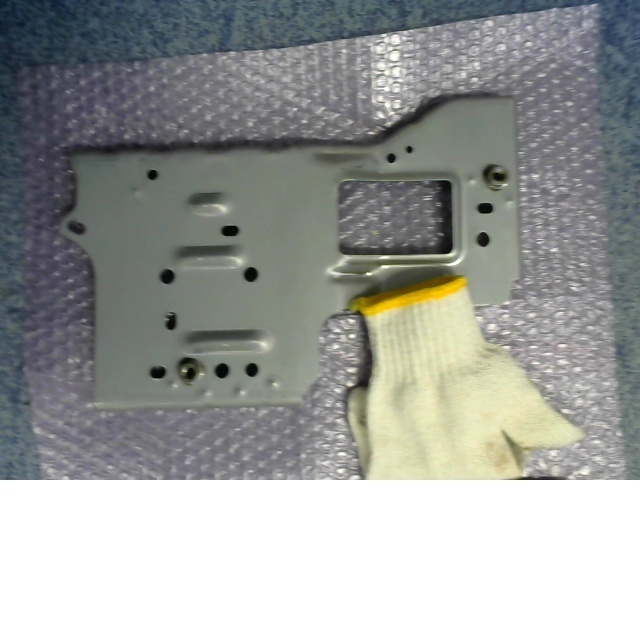dog: (482, 163, 510, 192), (176, 356, 203, 384)
